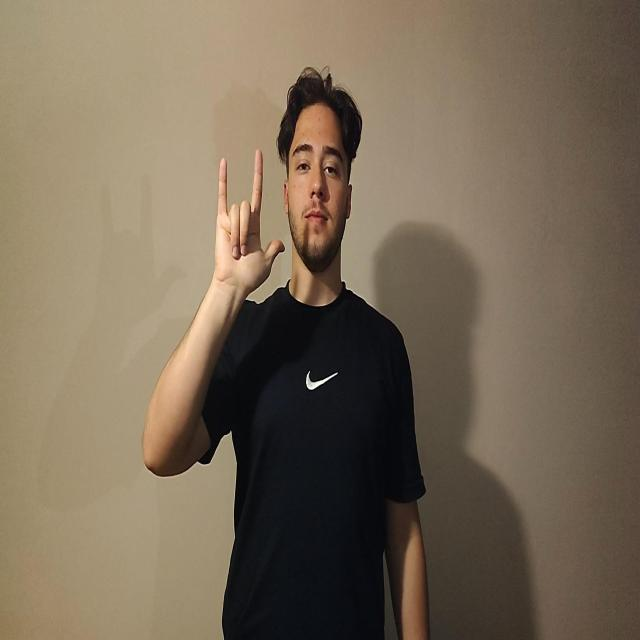iloveyou: (213, 147, 285, 300)
